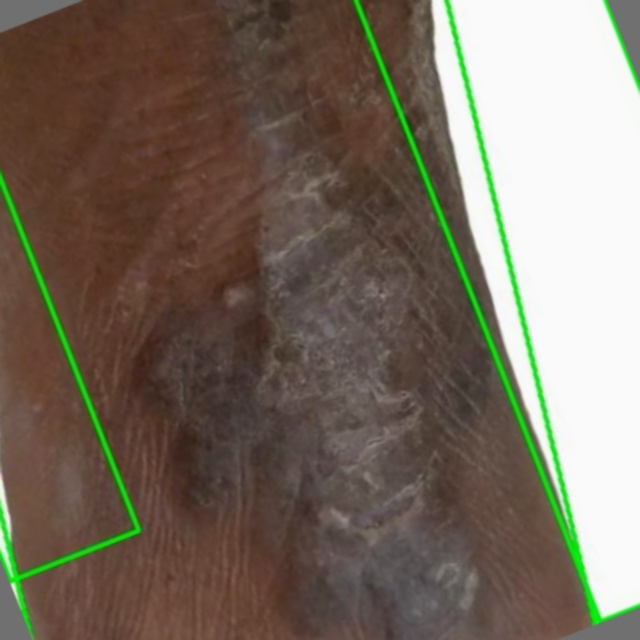Eczema: (0, 0, 614, 639)
